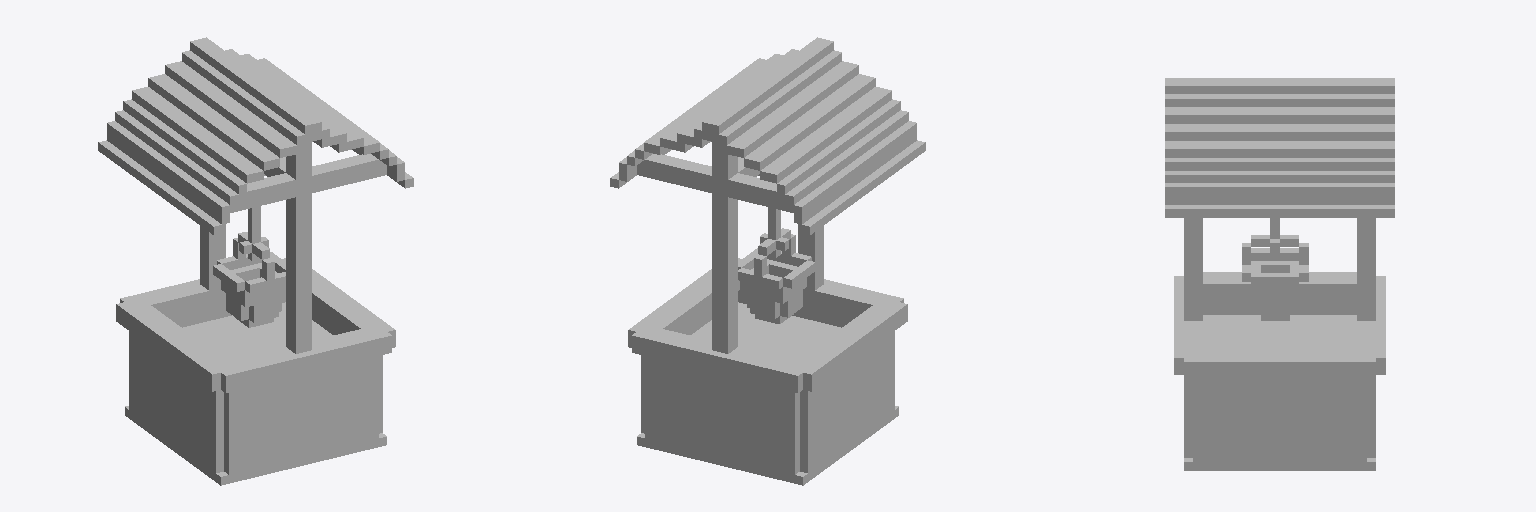
The model's file is Tarefa Poço-05.obj.
3 renders of one model, left to right at view 1: azimuth 30°, elevation 25°; view 2: azimuth 150°, elevation 25°; view 3: azimuth 270°, elevation 25°, orthographic.
Size of the model in its own units: 24 by 40 by 24.